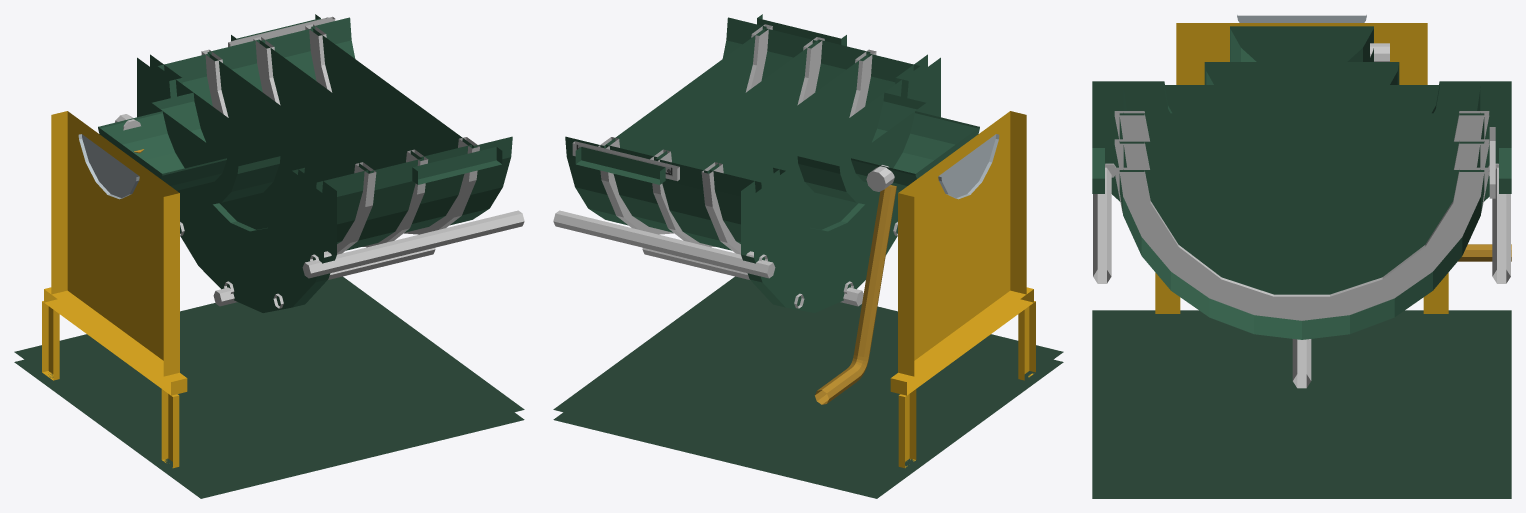
The model's file is cell_18.obj.
3 views of the same model, side by side, from view 1: azimuth 30°, elevation 25°; view 2: azimuth 150°, elevation 25°; view 3: azimuth 270°, elevation 25° (orthographic). The views are drawn at different scales.
Size of the model in its own units: 1 by 0.81 by 1.
